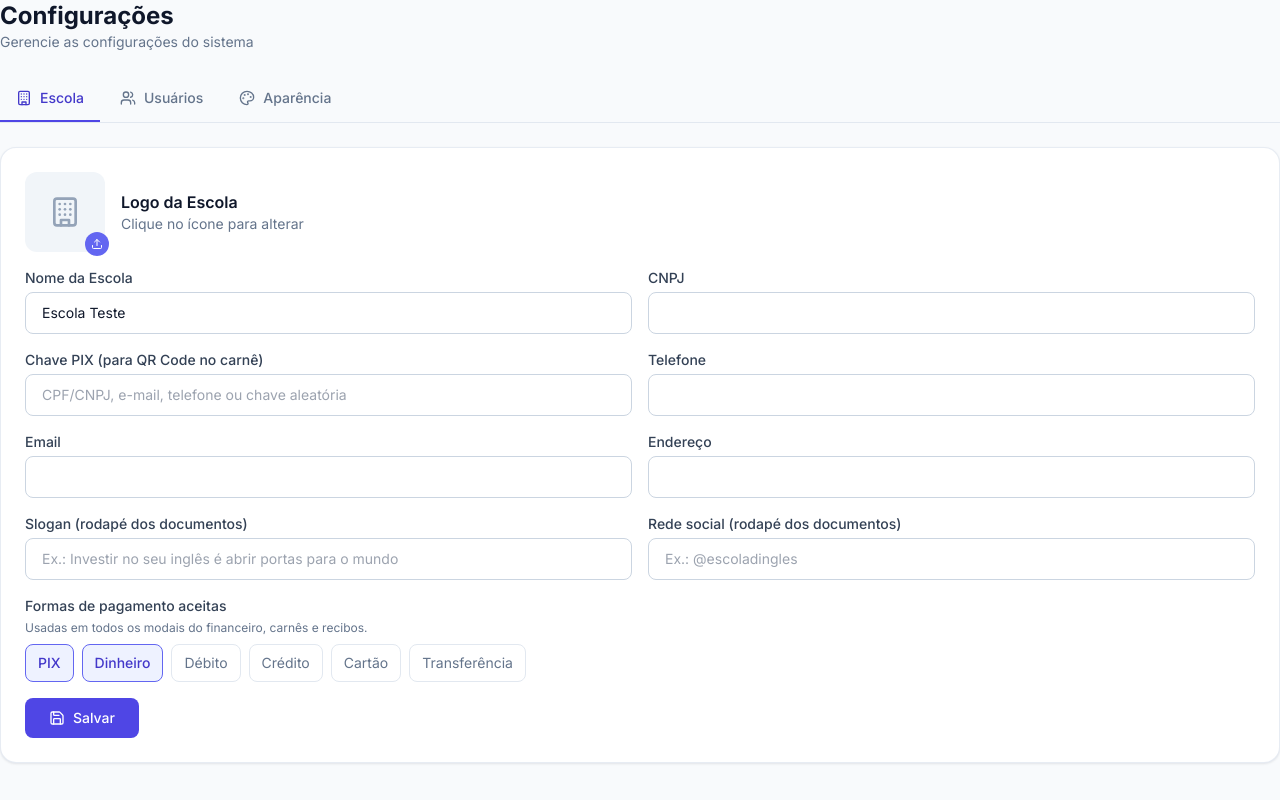
Settings › cancelar fecha o dialogo sem excluir
Click the button "Usuários".
click(162, 99)  # box top-left (104, 76), bottom-right (219, 122)
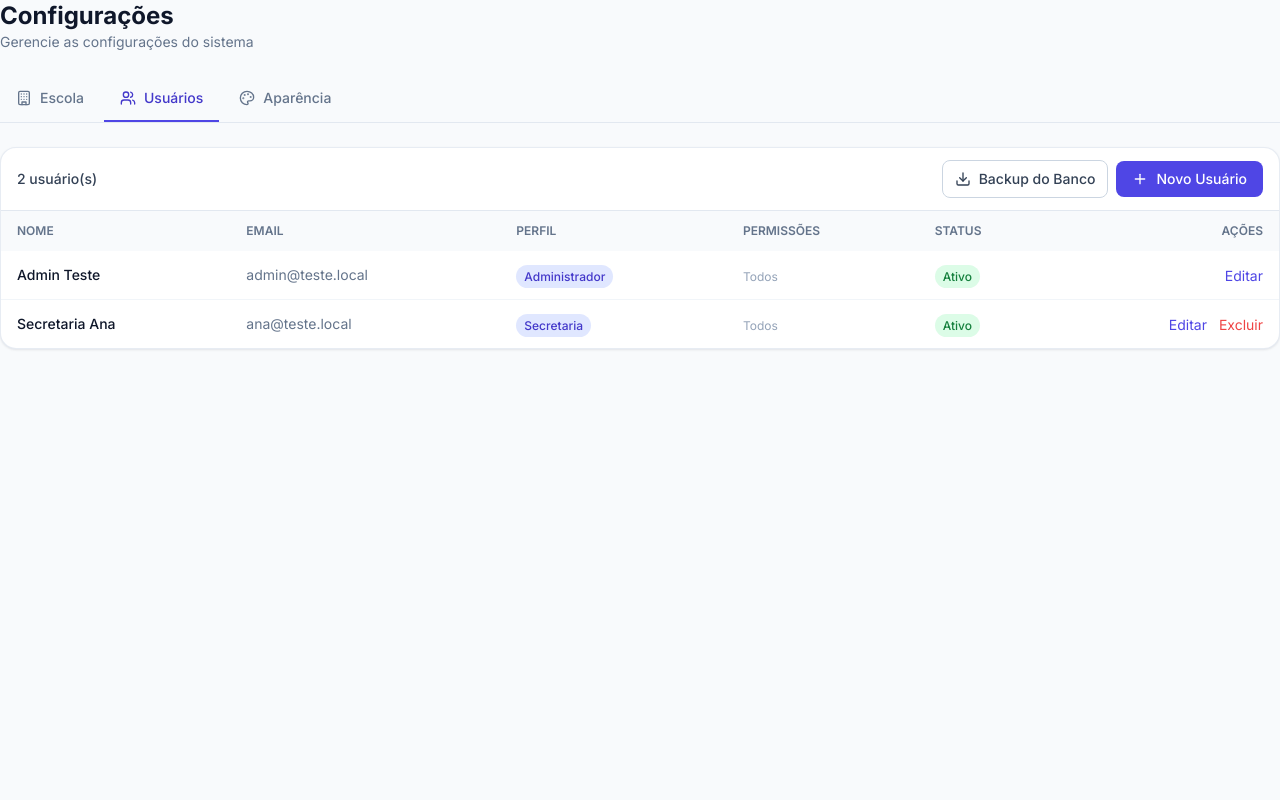
Result: the text "Secretaria Ana" is shown at top-left (1, 300), bottom-right (230, 348)
Click the button "Excluir".
click(1241, 325)  # box top-left (1219, 315), bottom-right (1263, 335)
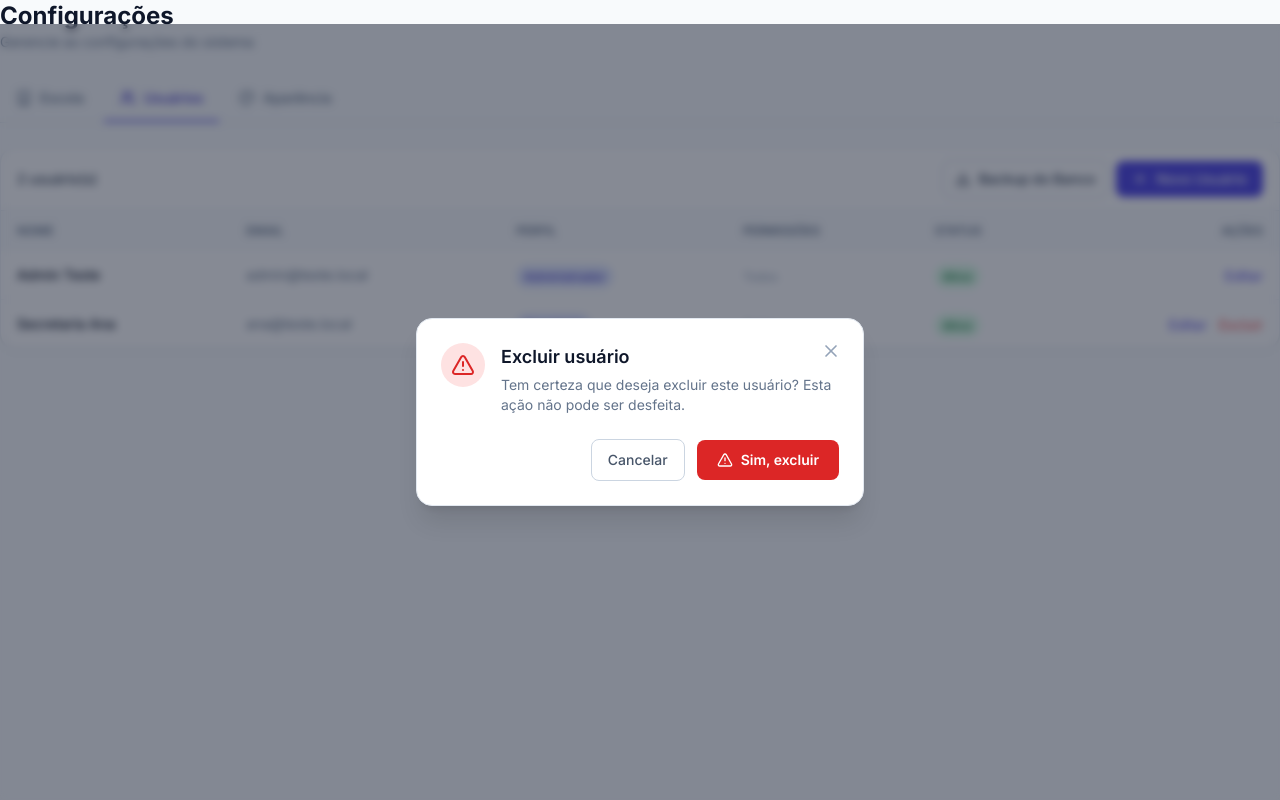
Click the button "Cancelar".
click(638, 460)  # box top-left (591, 439), bottom-right (685, 481)
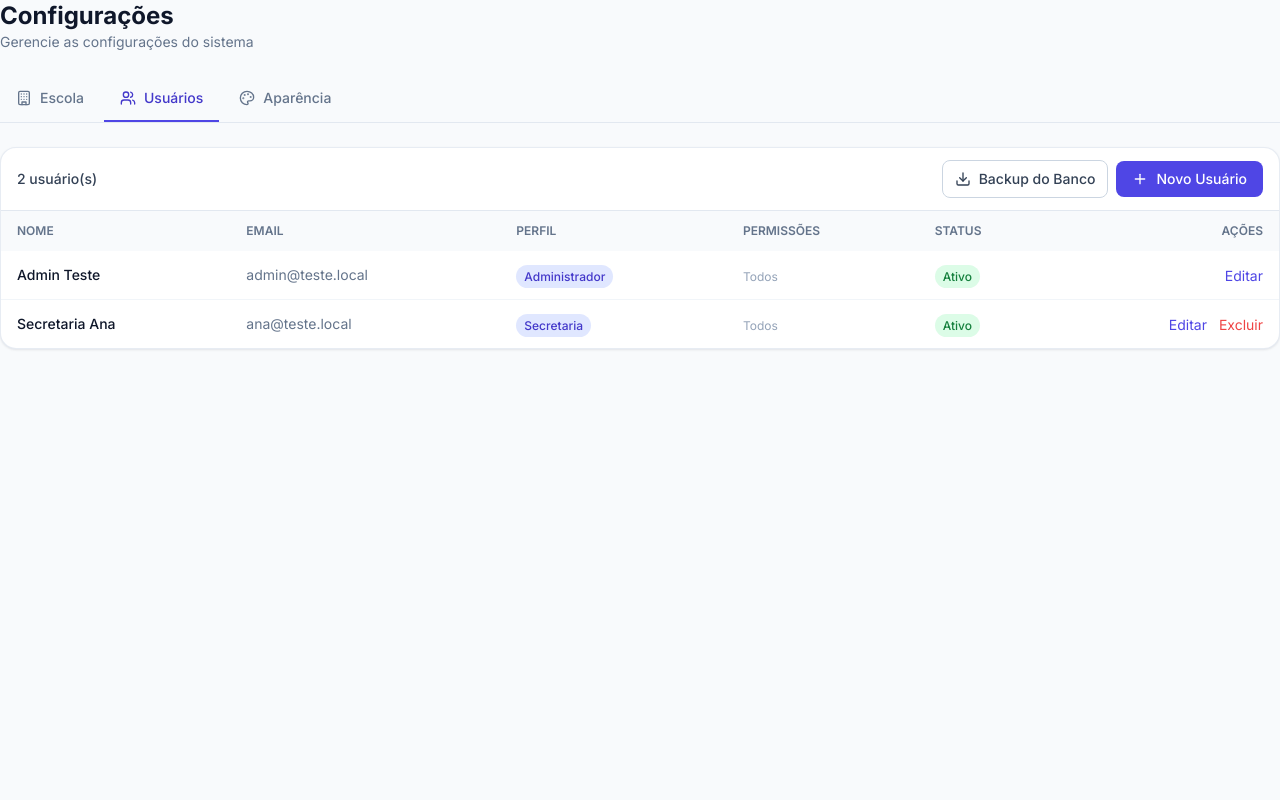
Result: the heading "Excluir usuário" is gone
